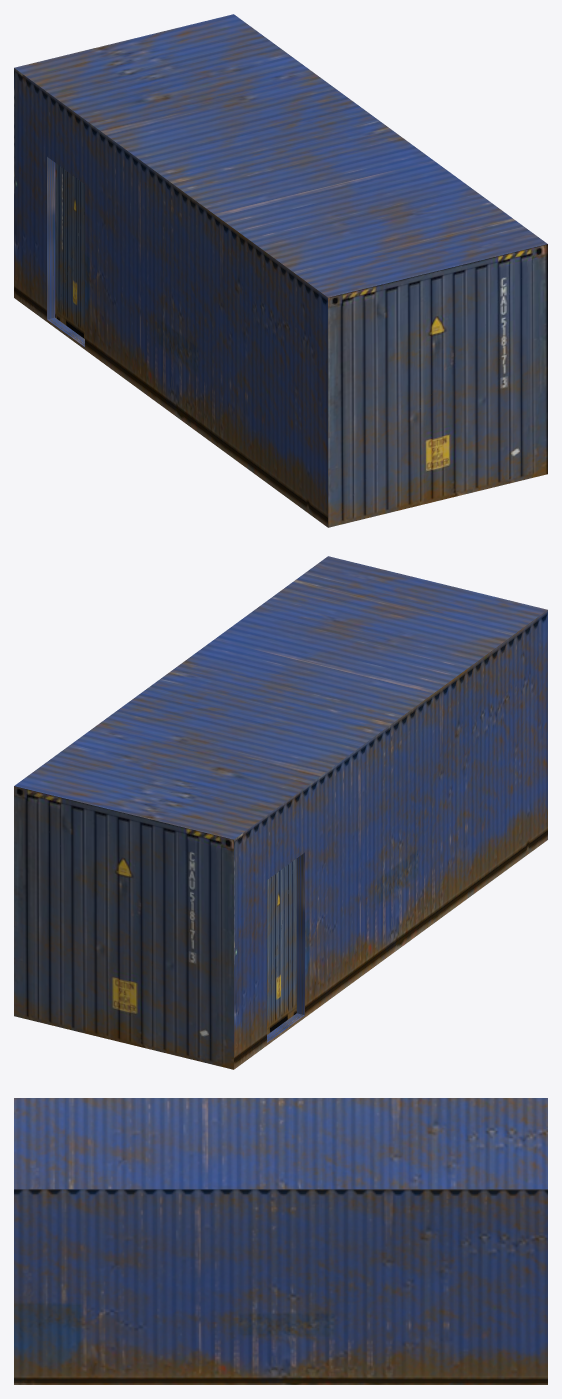
File: contan2.fbx
3 renders of one model, top to bottom at view 1: azimuth 30°, elevation 25°; view 2: azimuth 150°, elevation 25°; view 3: azimuth 270°, elevation 25°, orthographic. The views are drawn at different scales.
Parts seen in each view (by area): view 1: container; view 2: container; view 3: container.
Part boxes in pixels (x1=…): container: x1=14, y1=14, x2=547, y2=527; container: x1=14, y1=556, x2=547, y2=1069; container: x1=14, y1=1098, x2=547, y2=1384.
Bounding box in the file's own units: 2.53 × 2.53 × 6.27.
